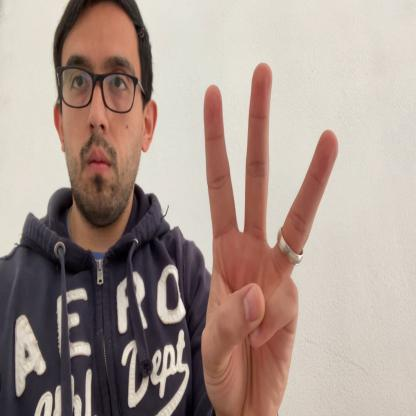W: (200, 60, 339, 415)
